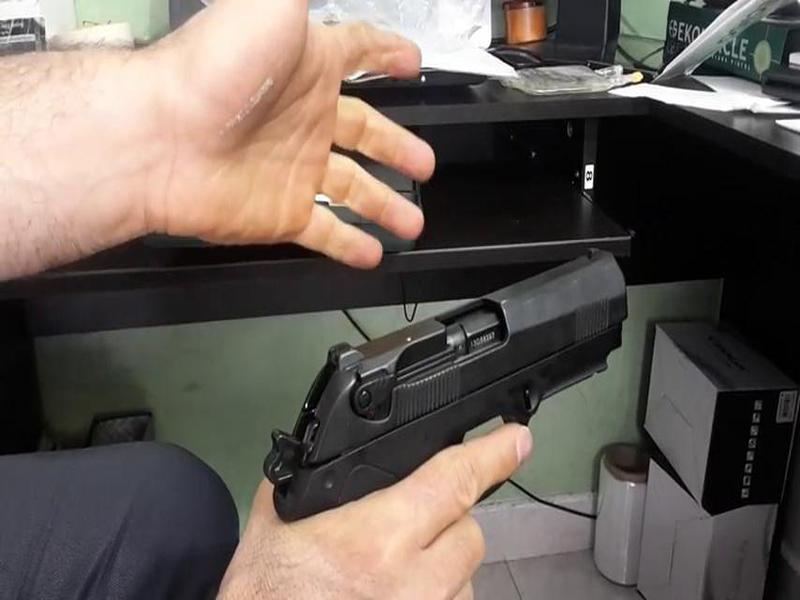Pistola: (252, 236, 667, 505)
